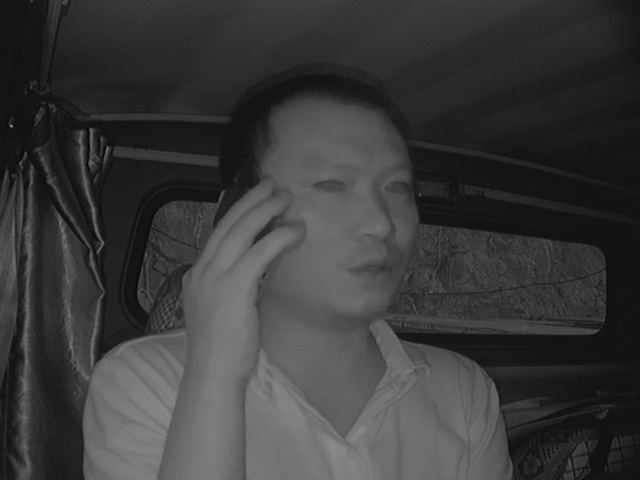hand: (177, 183, 302, 367)
